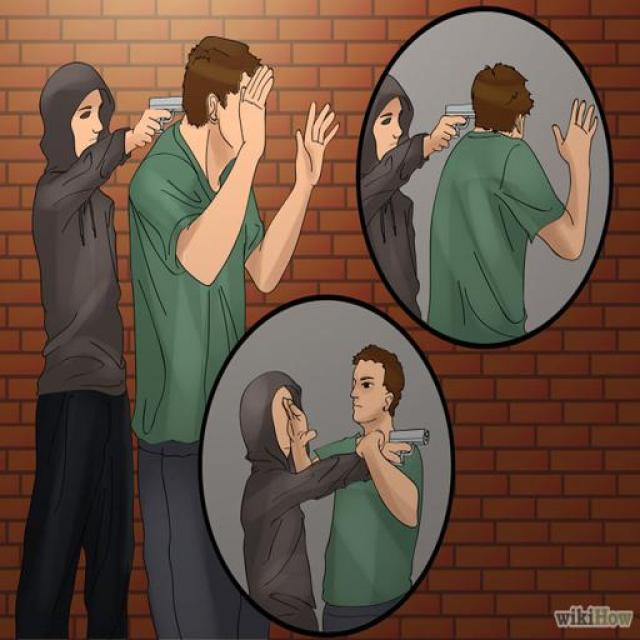pistol: (132, 83, 191, 149), (369, 417, 430, 480), (433, 95, 474, 154)
